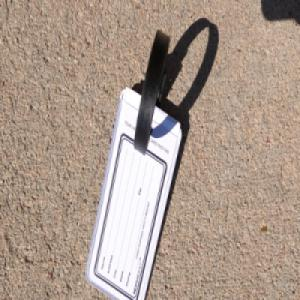LuggageTag: (84, 28, 182, 300)
